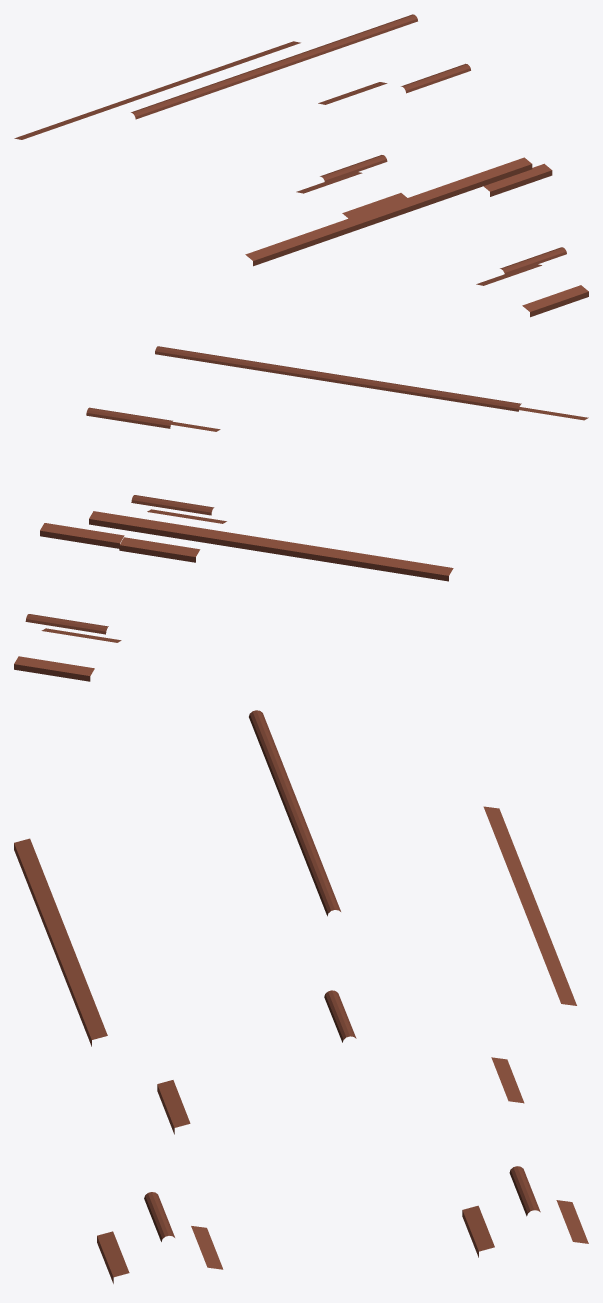
3 views of the same model, one above another, from view 1: azimuth 30°, elevation 25°; view 2: azimuth 150°, elevation 25°; view 3: azimuth 270°, elevation 25° (orthographic). The views are drawn at different scales.
Visible parts, largest first — view 1: detail; view 2: detail; view 3: detail.
Part boxes in pixels (x1,y1,x2,y2): detail: (14,14,588,317); detail: (14,346,588,681); detail: (14,710,588,1283).
Size of the model in its own units: 12.69 by 6.99 by 11.29.
